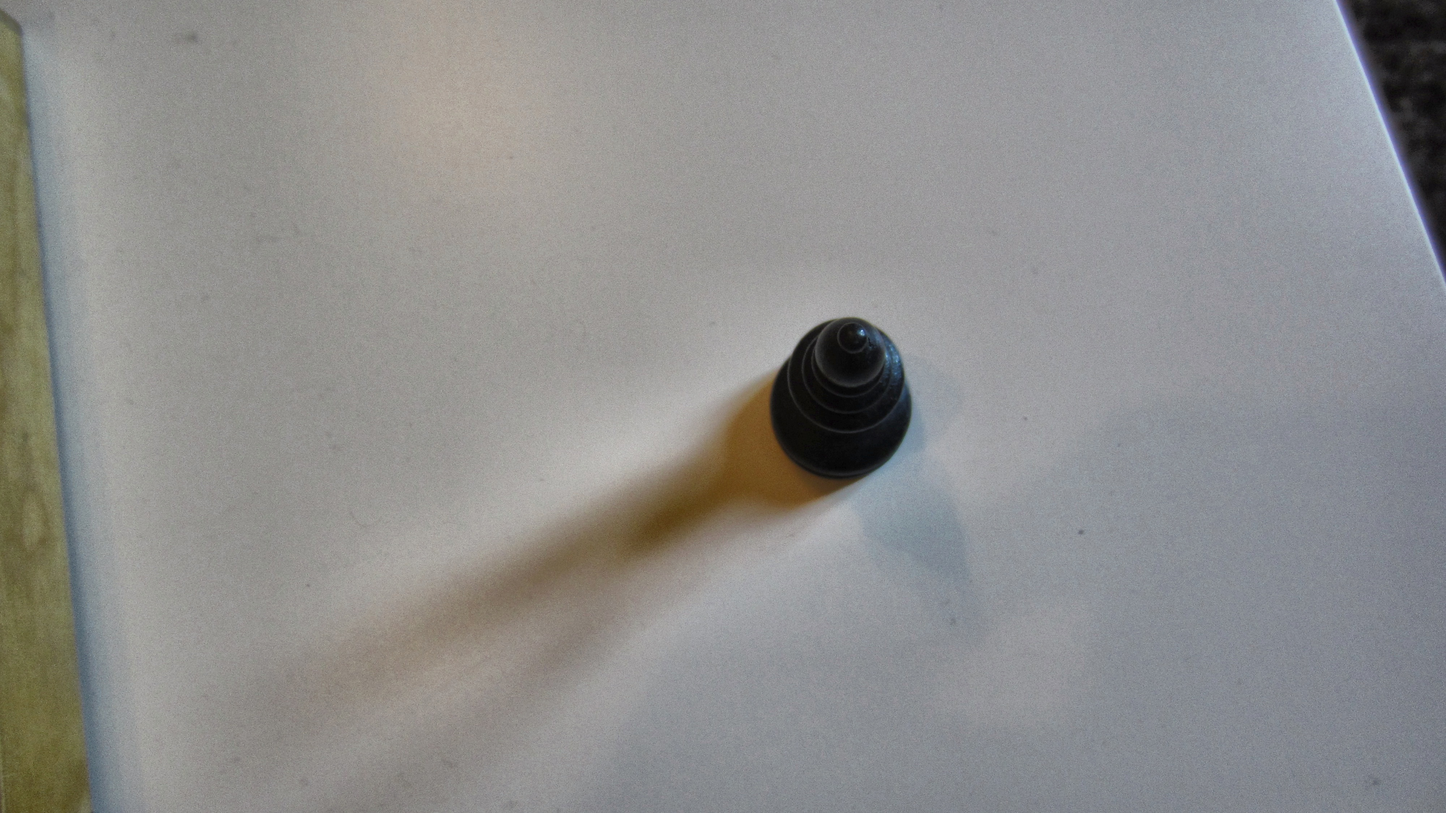black-bishop: (764, 315, 916, 482)
